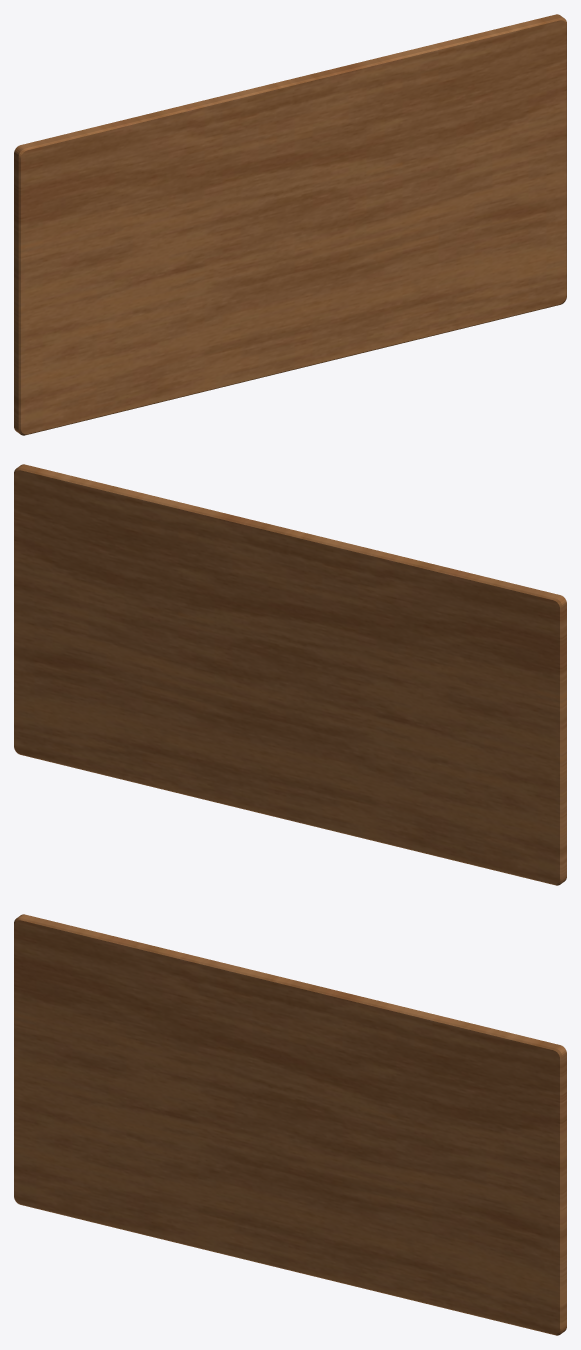
File: tabletop.obj
3 renders of one model, top to bottom at view 1: azimuth 30°, elevation 25°; view 2: azimuth 150°, elevation 25°; view 3: azimuth 330°, elevation 25°, orthographic.
Size of the model in its own units: 1.5 by 0.75 by 0.03.
1 material, 1 textured.
